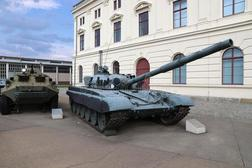t72: (66, 37, 219, 125)
